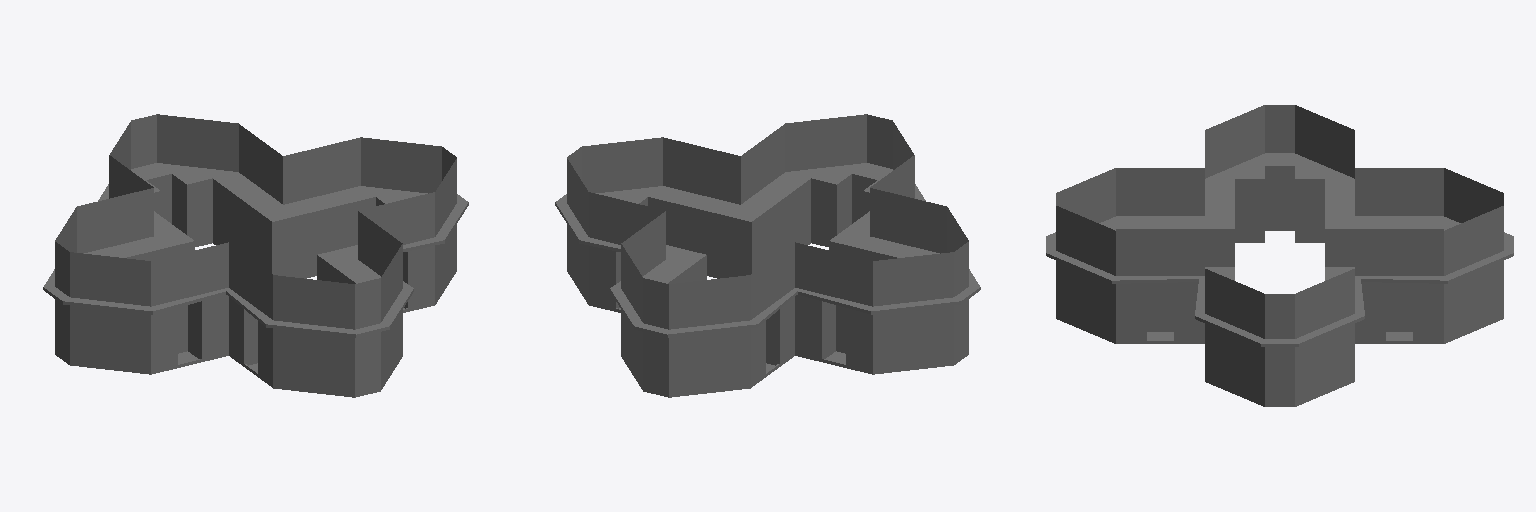
File: TallBottomBody.obj
3 renders of one model, left to right at view 1: azimuth 30°, elevation 25°; view 2: azimuth 150°, elevation 25°; view 3: azimuth 270°, elevation 25°, orthographic.
Parts seen in each view (by area): view 1: TallBottomBody KA_BLDG8_floor_10 KA_BLDG8_grp KA_BLDG8_Architect; view 2: TallBottomBody KA_BLDG8_floor_10 KA_BLDG8_grp KA_BLDG8_Architect; view 3: TallBottomBody KA_BLDG8_floor_10 KA_BLDG8_grp KA_BLDG8_Architect.
Boxes of the visible parts, <box> form: TallBottomBody KA_BLDG8_floor_10 KA_BLDG8_grp KA_BLDG8_Architect: <box>43,114,468,397</box>; TallBottomBody KA_BLDG8_floor_10 KA_BLDG8_grp KA_BLDG8_Architect: <box>555,114,980,397</box>; TallBottomBody KA_BLDG8_floor_10 KA_BLDG8_grp KA_BLDG8_Architect: <box>1046,105,1513,406</box>.
Bounding box in the file's own units: 2937 × 785 × 2937.